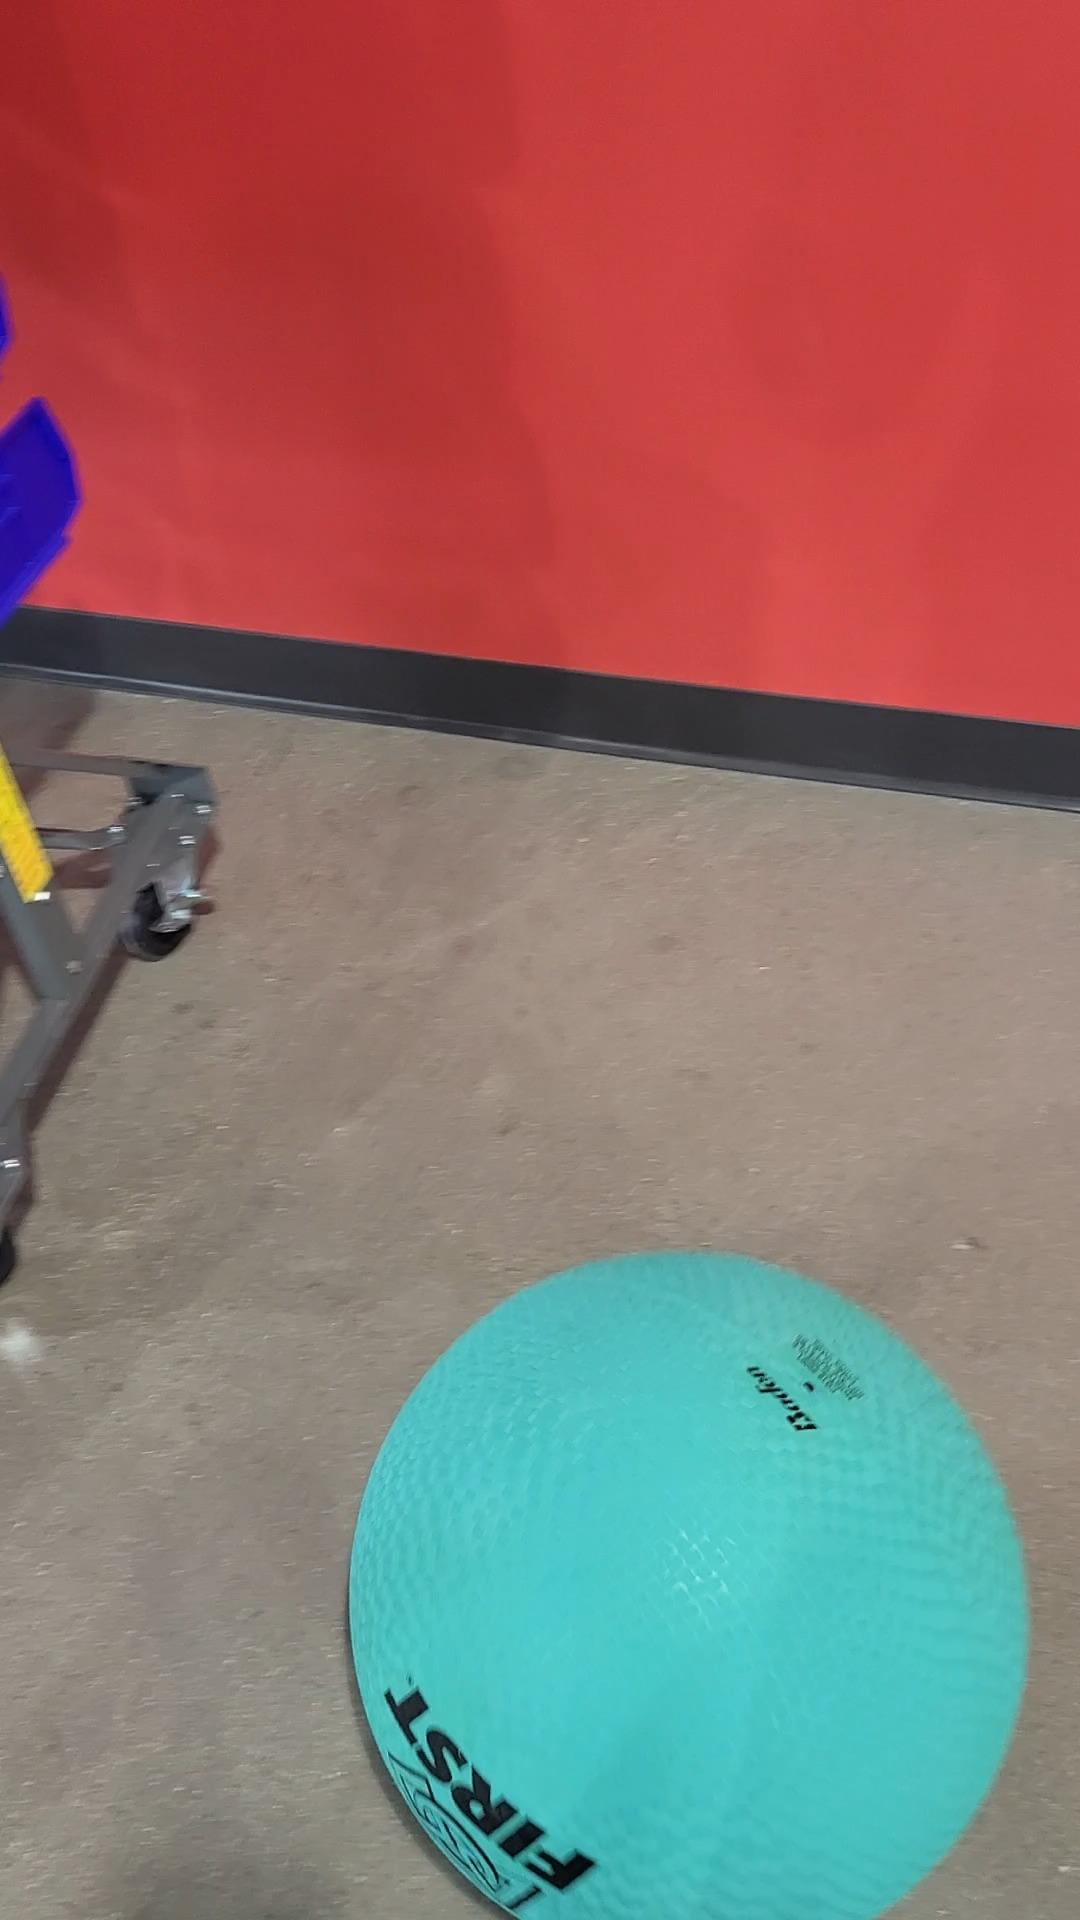algae: (351, 1255, 1026, 1920)
